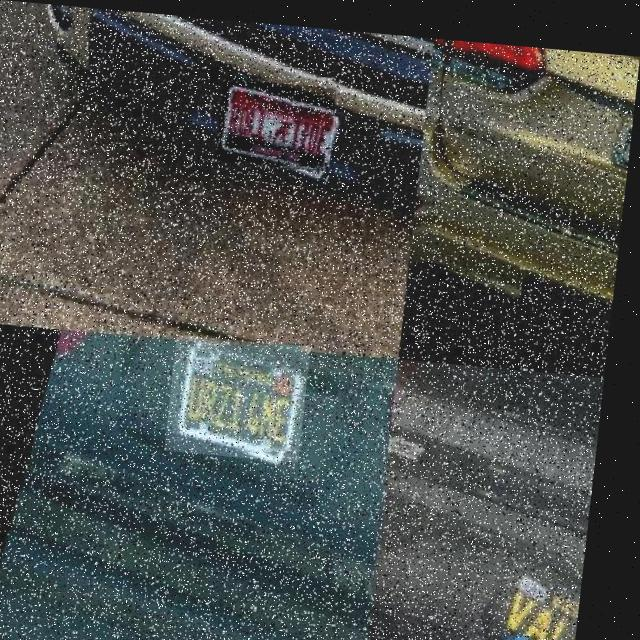LicensePlate: (174, 331, 318, 456), (488, 540, 593, 640), (220, 75, 336, 163)
